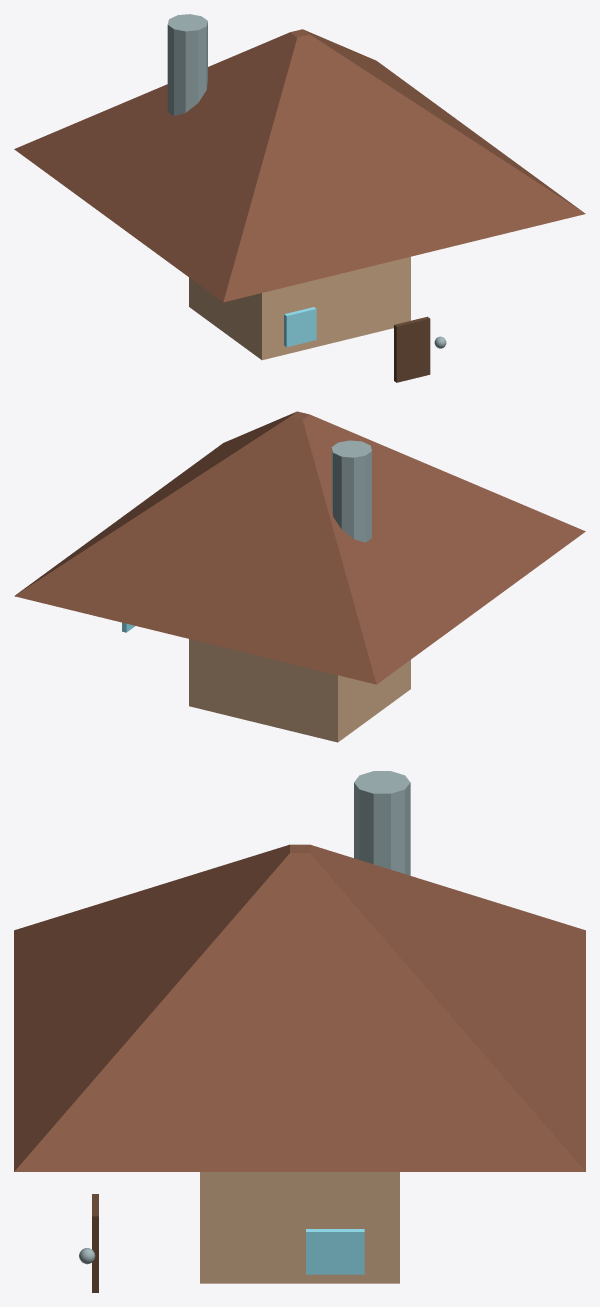
The model's file is cabin.glb.
3 views of the same model, one above another, from view 1: azimuth 30°, elevation 25°; view 2: azimuth 150°, elevation 25°; view 3: azimuth 270°, elevation 25° (orthographic). The views are drawn at different scales.
Parts seen in each view (by area): view 1: Cabin; view 2: Cabin; view 3: Cabin.
Boxes of the visible parts, x1,y1,x2,y2 form: Cabin: (14, 14, 585, 382); Cabin: (14, 411, 585, 742); Cabin: (14, 771, 585, 1292).
Bounding box in the file's own units: 2.43 × 1.97 × 2.43.
Materials: 2 (2 with a texture image).
